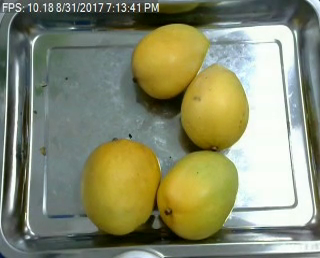Mango: (79, 137, 161, 235), (155, 149, 239, 239), (127, 21, 212, 106), (176, 63, 251, 153)
